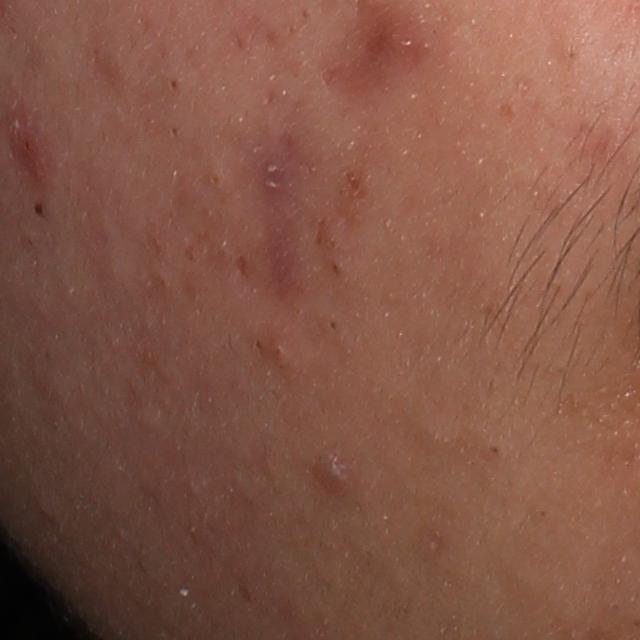comedo: (312, 448, 365, 499), (267, 335, 297, 365), (209, 167, 229, 191), (164, 120, 188, 139), (167, 71, 182, 93), (488, 439, 504, 459)
papule: (9, 125, 54, 174)
